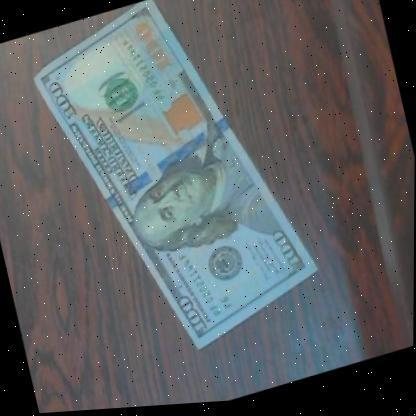one_hundred-front: (18, 0, 329, 385)
